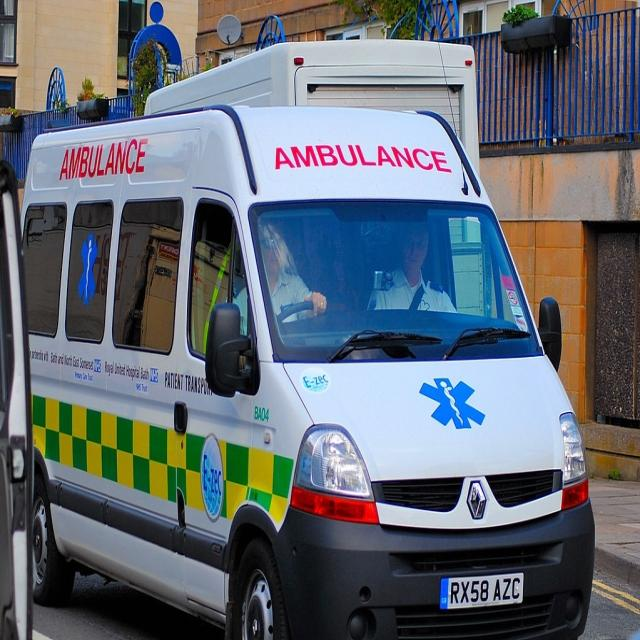ambulance: (15, 102, 605, 640)
